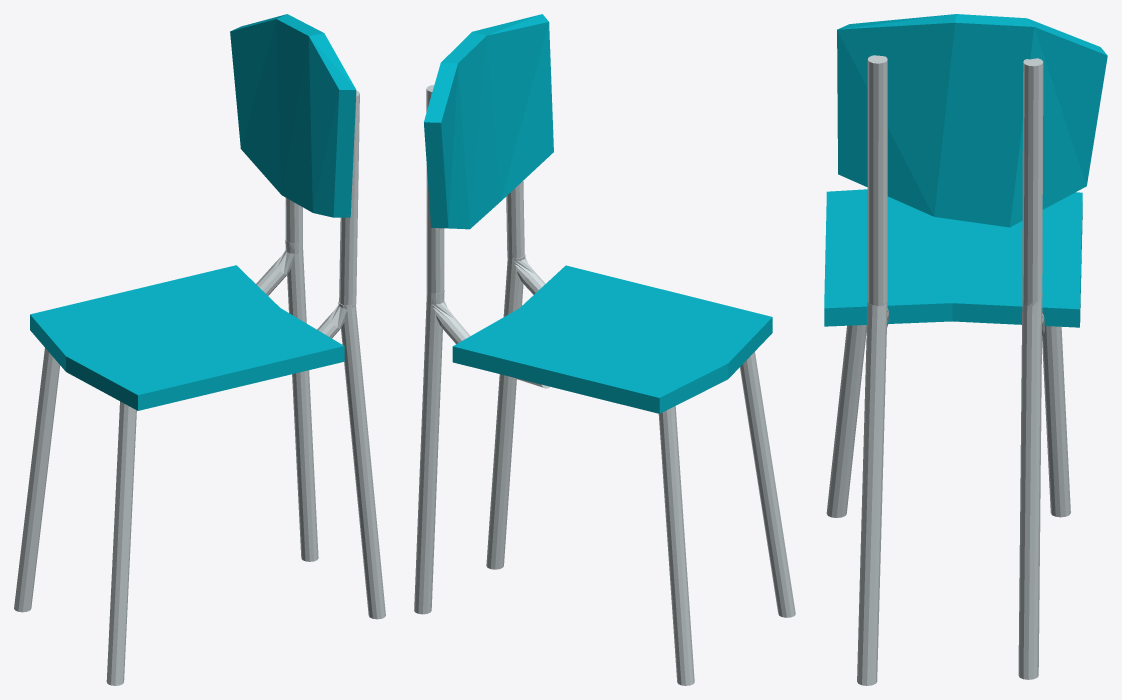
File: SillaSola.glb
3 renders of one model, left to right at view 1: azimuth 30°, elevation 25°; view 2: azimuth 150°, elevation 25°; view 3: azimuth 270°, elevation 25°, orthographic. The views are drawn at different scales.
Parts seen in each view (by area): view 1: group1920711641.002; view 2: group1920711641.002; view 3: group1920711641.002.
Part boxes in pixels (bbox=[...]): group1920711641.002: bbox=[14, 14, 385, 685]; group1920711641.002: bbox=[414, 14, 795, 685]; group1920711641.002: bbox=[824, 14, 1107, 685].
Size of the model in its own units: 0.527 by 0.9639 by 0.3809.
